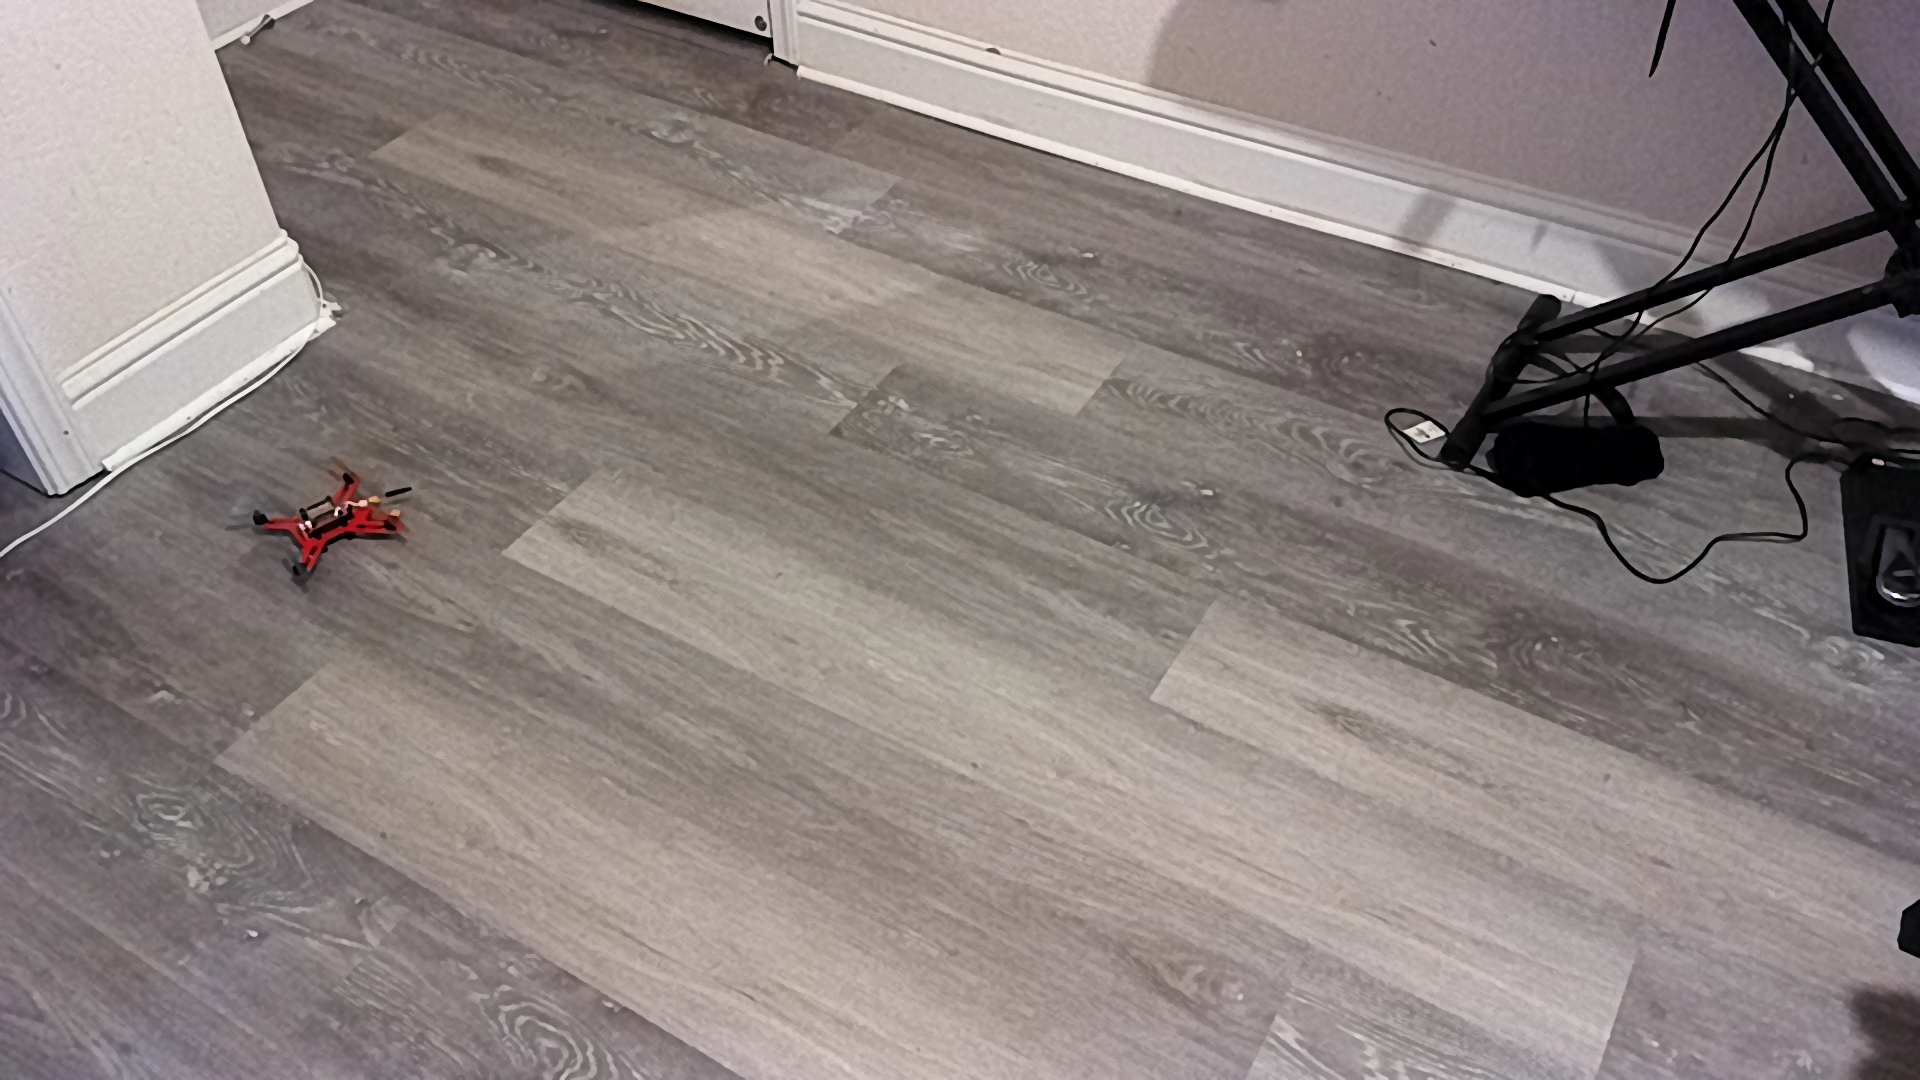drone: (228, 447, 438, 599)
